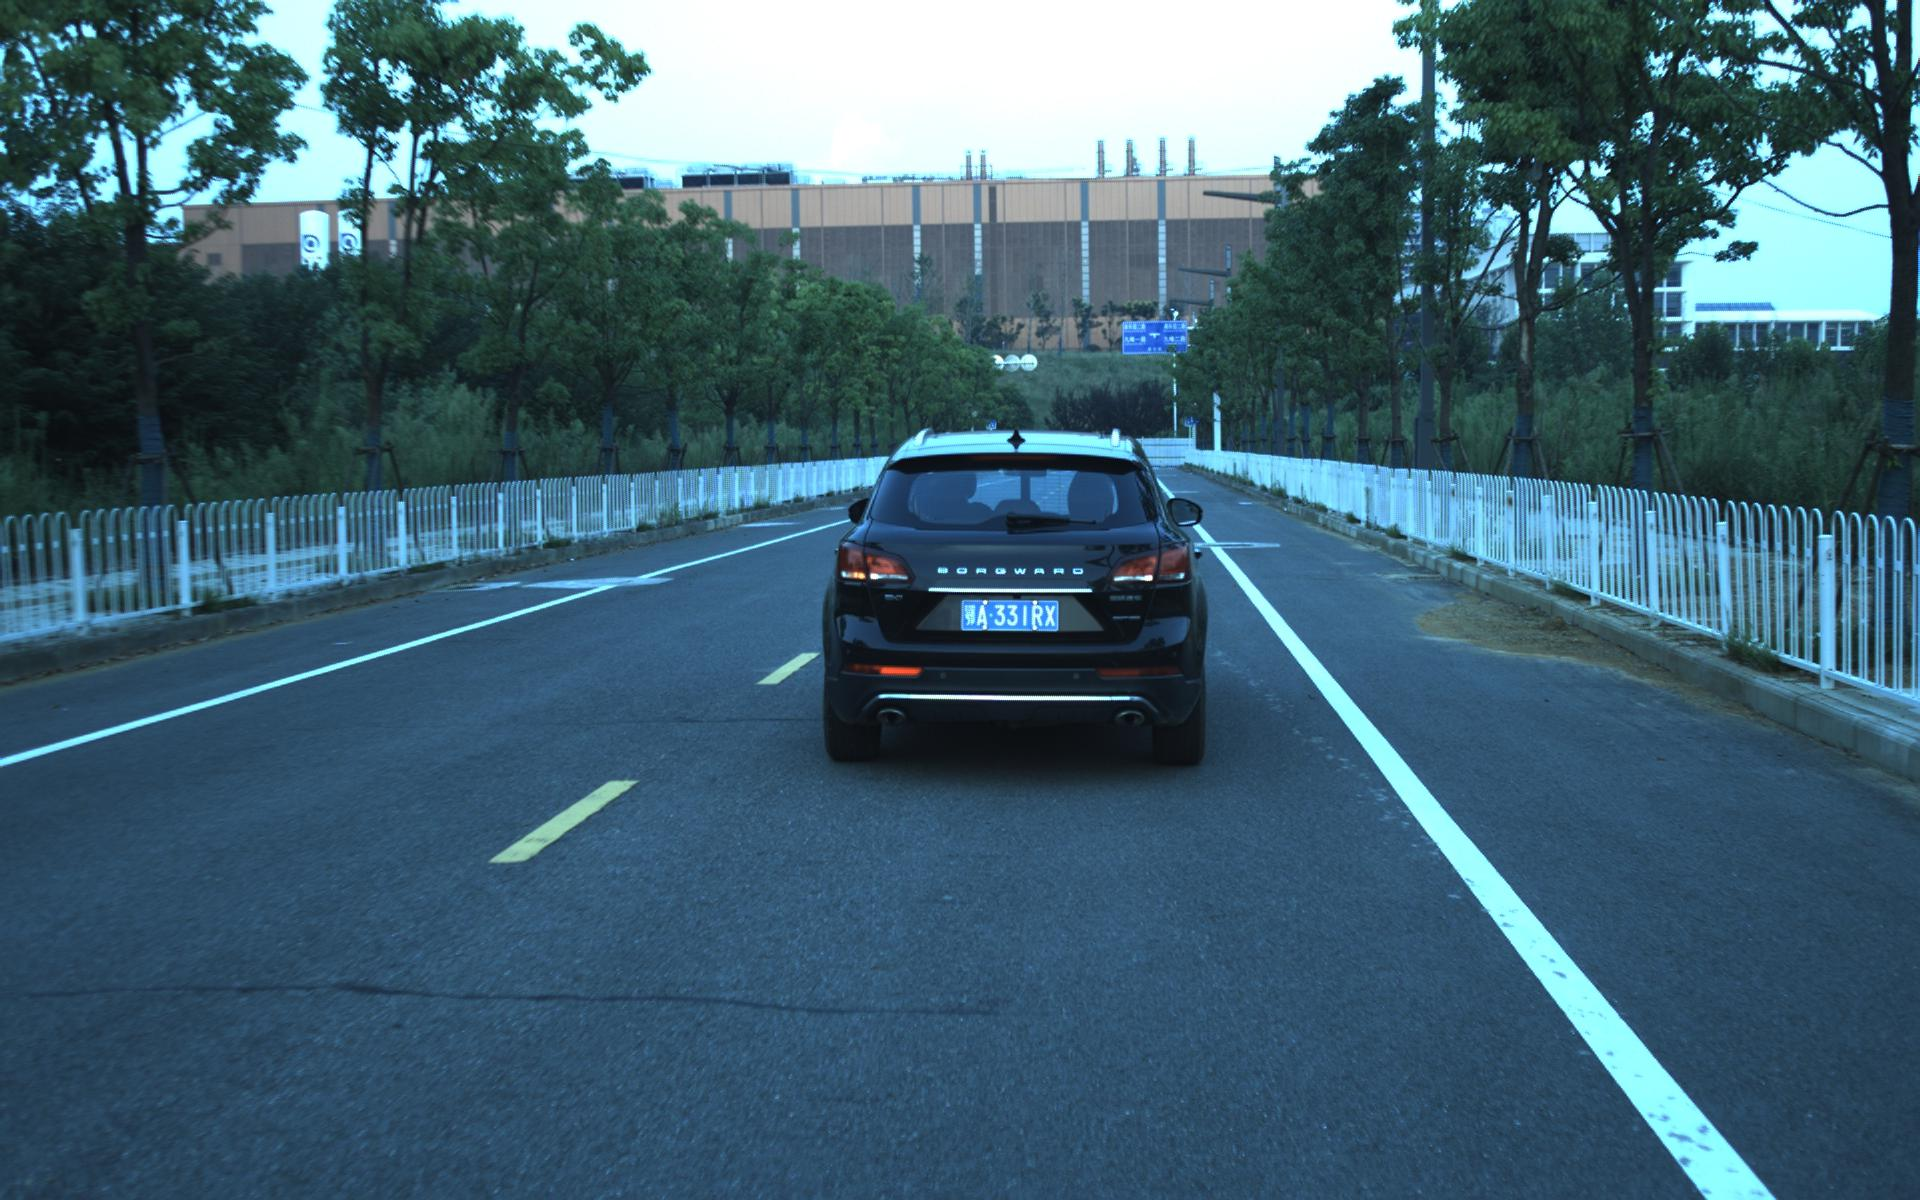Car: (811, 418, 1210, 771)
